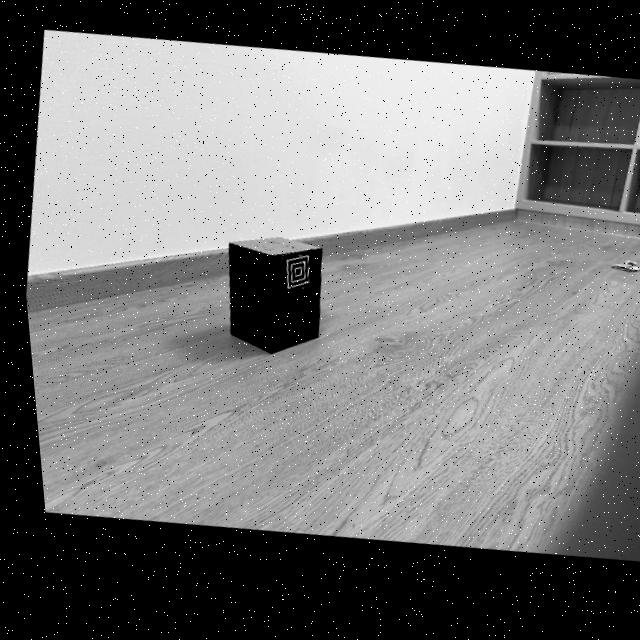BULLSEYE: (277, 254, 308, 299)
